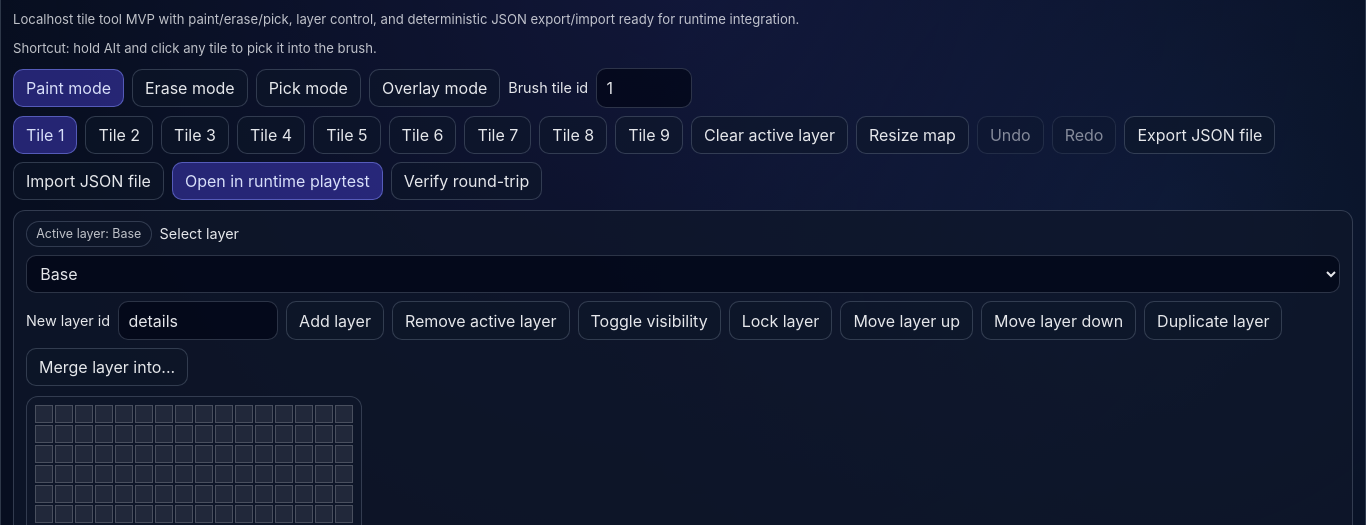
Test case: TileMapPlacementToolExample › supports undo and redo for tile edits
The width and height of the screenshot is (1366, 525).
Click the button named "Tile (0, 0)" at (44, 414), box 35,405 -> 53,423
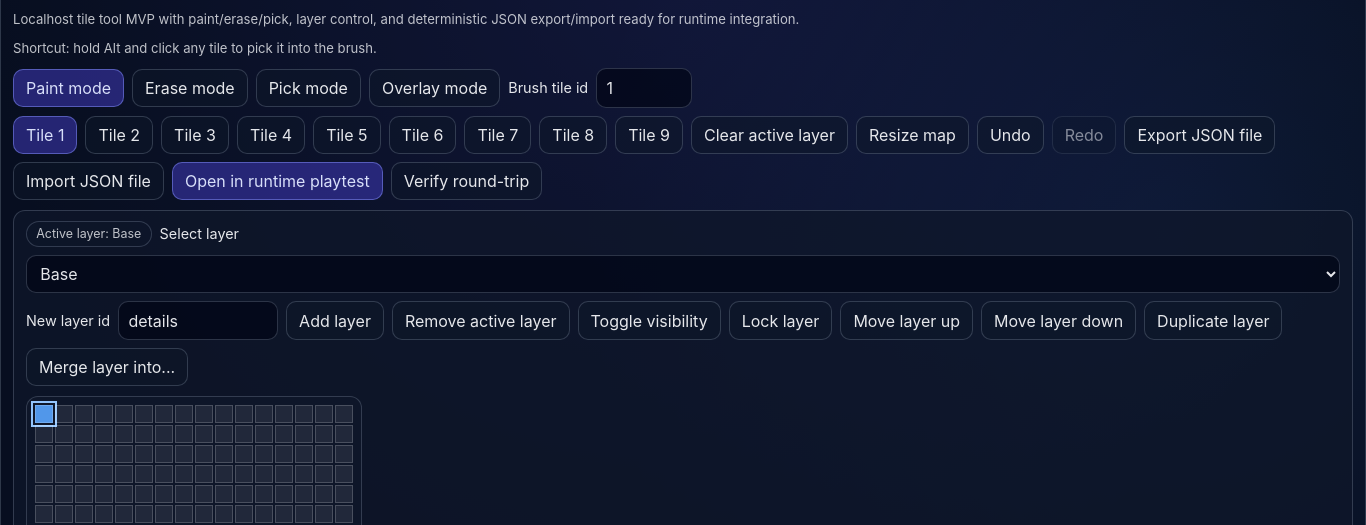
Click the button "Undo" at (1010, 135), box 977,116 -> 1044,154
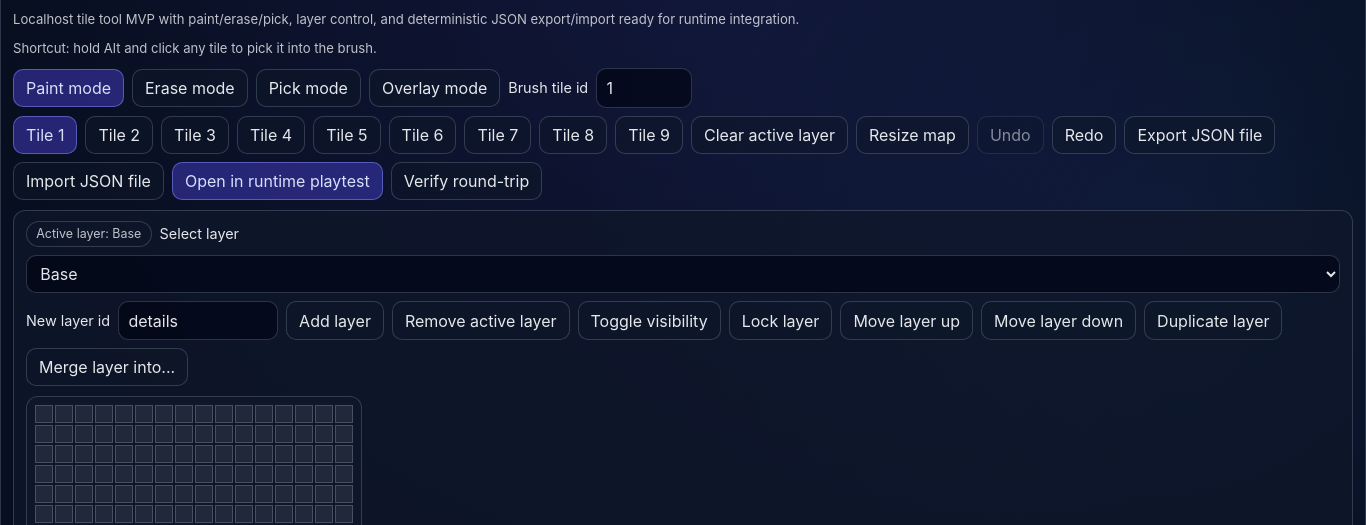
Click the button "Redo" at (1084, 135), box 1052,116 -> 1116,154
(page scrolled)
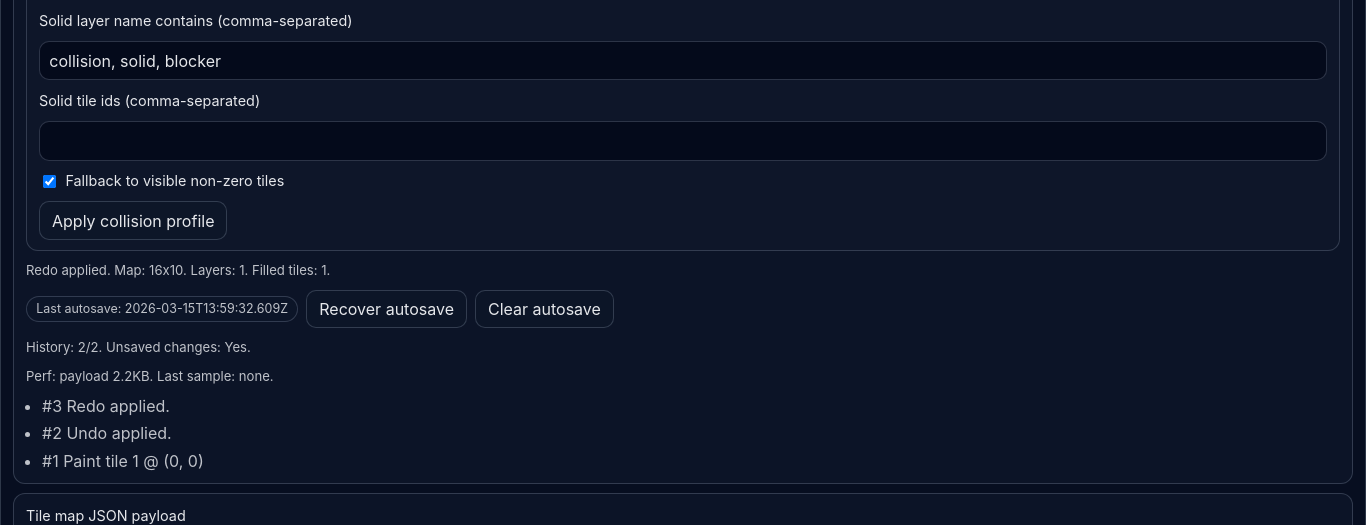
Expected: the text "Redo applied. Map: 16x10. Layers: 1. Filled tiles: 1." is shown, 26,262 -> 330,278
Expected: the text "History: 2/2. Unsaved changes: Yes." is shown, 26,339 -> 251,355
